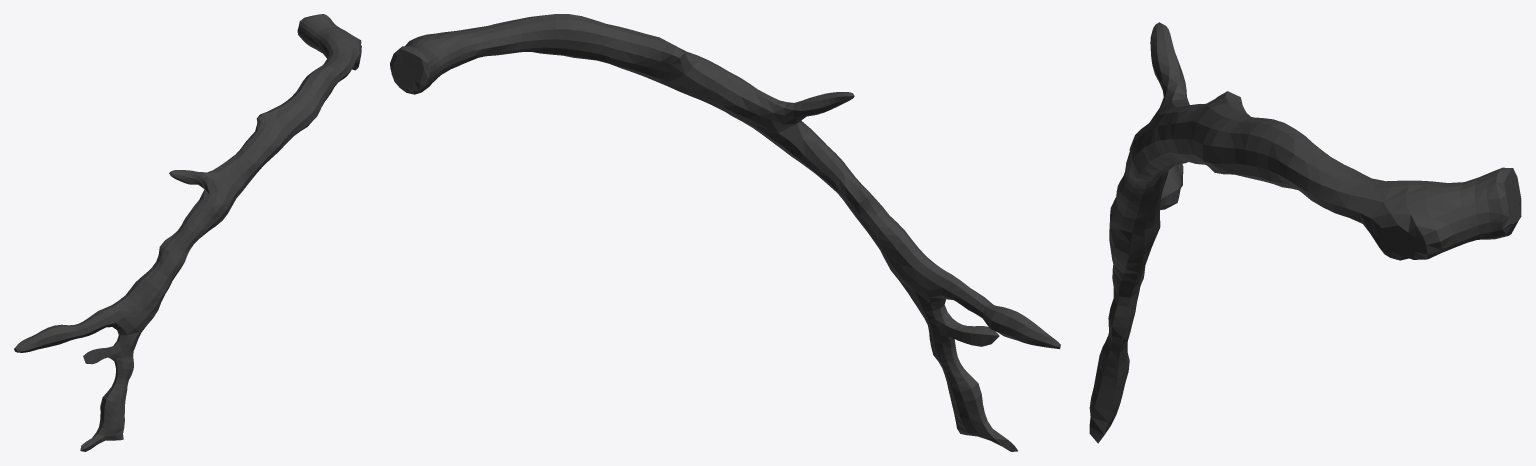
Rendered from Left_cranial_part_cranial_lobe_bronchus.glb.
3 renders of one model, left to right at view 1: azimuth 30°, elevation 25°; view 2: azimuth 150°, elevation 25°; view 3: azimuth 270°, elevation 25°, orthographic. The views are drawn at different scales.
Visible parts, largest first — view 1: Left_cranial_part_cranial_lobe_bronchus; view 2: Left_cranial_part_cranial_lobe_bronchus; view 3: Left_cranial_part_cranial_lobe_bronchus.
Part boxes in pixels (x1=…): Left_cranial_part_cranial_lobe_bronchus: x1=14, y1=14, x2=361, y2=451; Left_cranial_part_cranial_lobe_bronchus: x1=390, y1=14, x2=1060, y2=451; Left_cranial_part_cranial_lobe_bronchus: x1=1089, y1=22, x2=1521, y2=443.
Bounding box in the file's own units: 3.3 × 2.18 × 1.51.
Materials: 1 (1 with a texture image).
